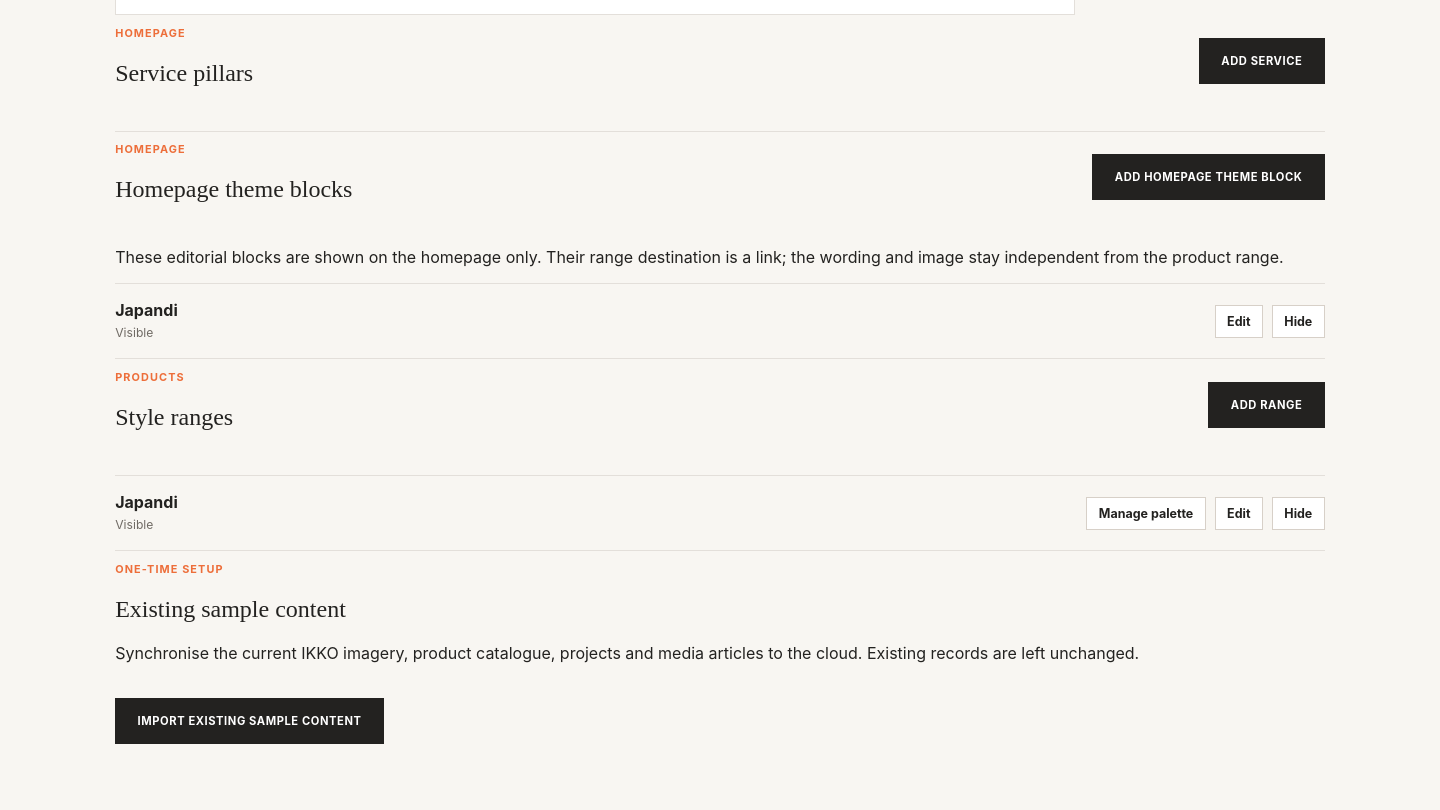
Test: updates a style range slug when its name changes
The width and height of the screenshot is (1440, 810).
(page scrolled)
Click the button "Add range" at (1267, 405), box [1208,382,1325,428]
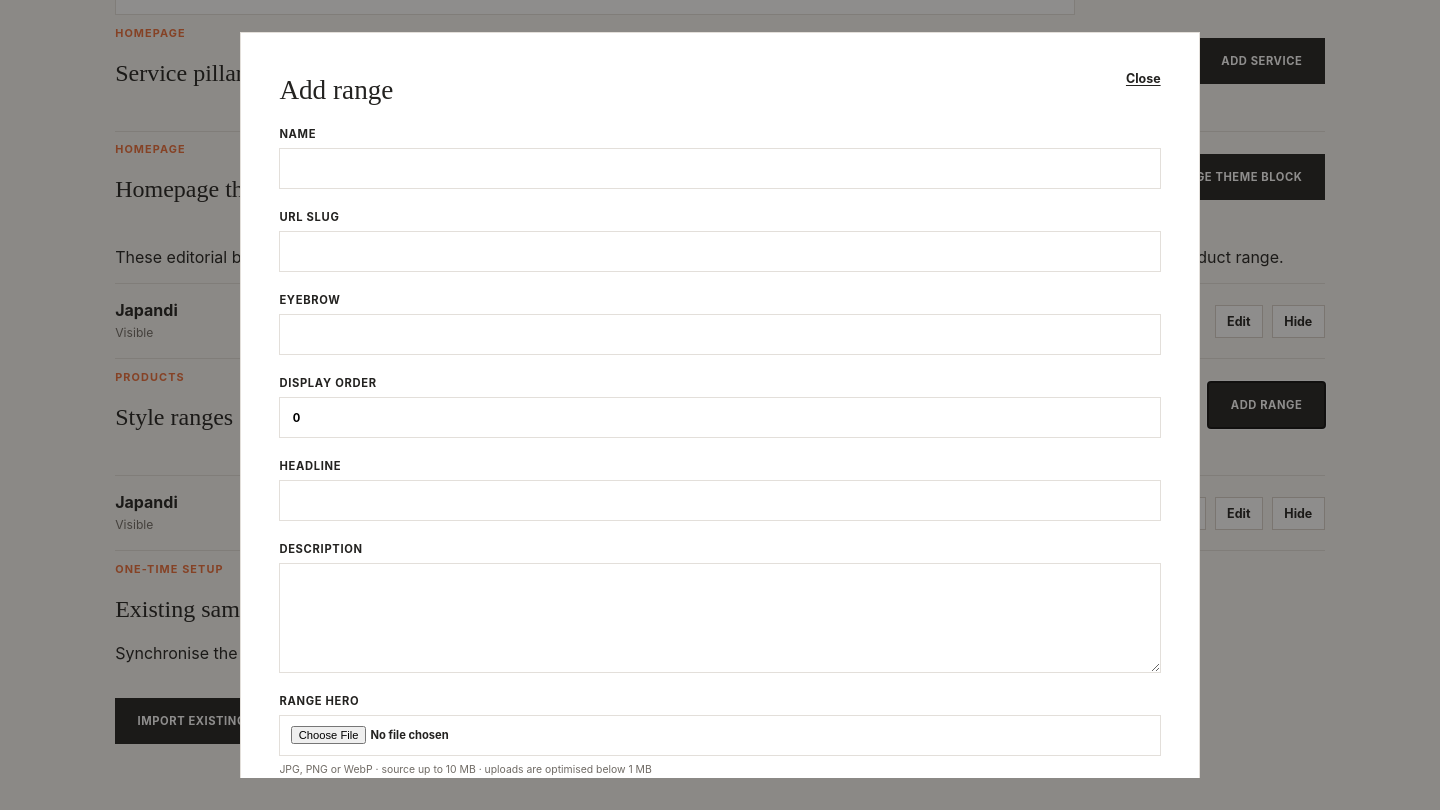
Type "Organic Modern" into the field labelled "Name" at (720, 169), box [279,148,1161,189]
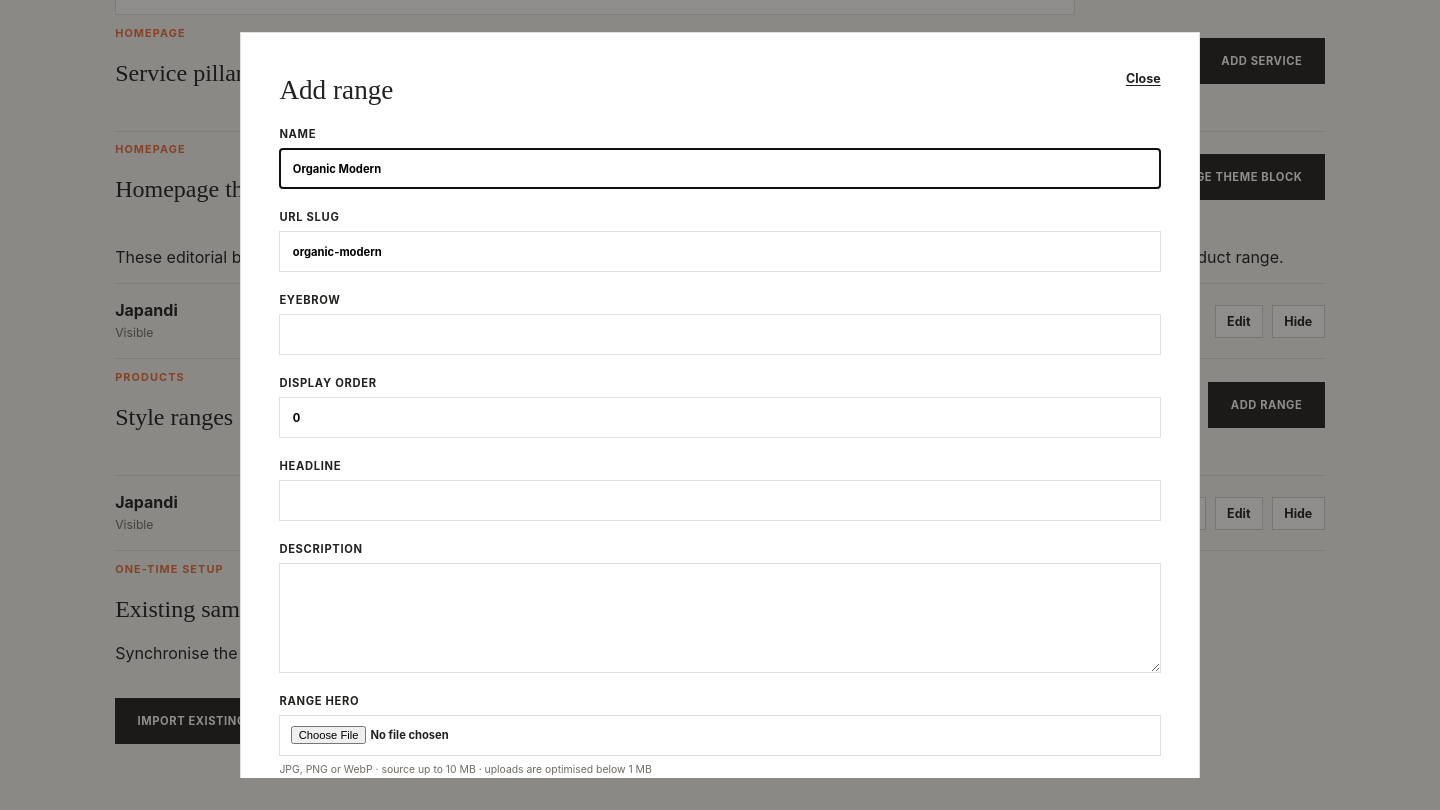
Result: the field labelled "URL slug" holds "organic-modern" at [279,231,1161,272]
